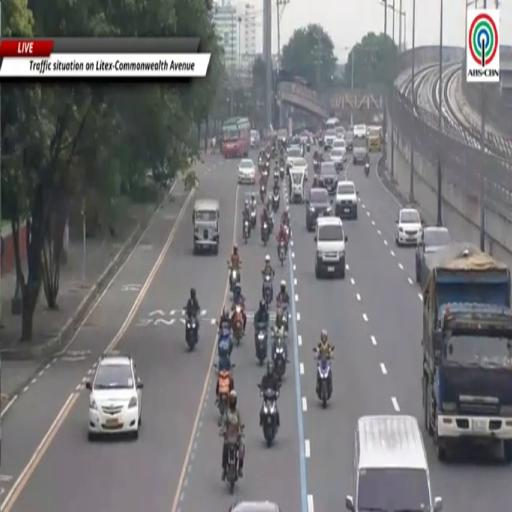bus: (222, 117, 251, 158), (352, 124, 368, 164), (367, 125, 381, 151), (325, 118, 341, 131)
car: (86, 355, 142, 440), (415, 227, 451, 286), (315, 217, 347, 278), (306, 188, 332, 231), (395, 207, 422, 246), (335, 181, 357, 219), (289, 159, 307, 203), (314, 161, 338, 194), (237, 159, 256, 184), (230, 502, 280, 511), (286, 146, 302, 169), (330, 149, 345, 171), (333, 138, 346, 163), (292, 157, 308, 173), (324, 129, 336, 150), (250, 131, 260, 148), (345, 131, 353, 152), (336, 126, 345, 138)
jeepney: (193, 199, 219, 254)
motorcycle: (258, 384, 279, 446), (215, 364, 235, 425), (316, 358, 332, 408), (225, 437, 239, 494), (273, 330, 286, 380), (255, 324, 267, 365), (232, 304, 243, 345), (186, 315, 198, 350), (277, 302, 288, 332), (263, 275, 272, 308), (230, 268, 240, 292), (261, 222, 269, 246), (278, 240, 285, 266), (243, 219, 250, 244), (272, 194, 279, 212), (284, 221, 290, 242), (268, 211, 273, 233), (260, 185, 266, 203), (251, 208, 256, 229), (274, 168, 279, 182), (280, 166, 284, 180), (365, 163, 369, 177), (306, 143, 310, 152)
truck: (422, 243, 511, 462)
